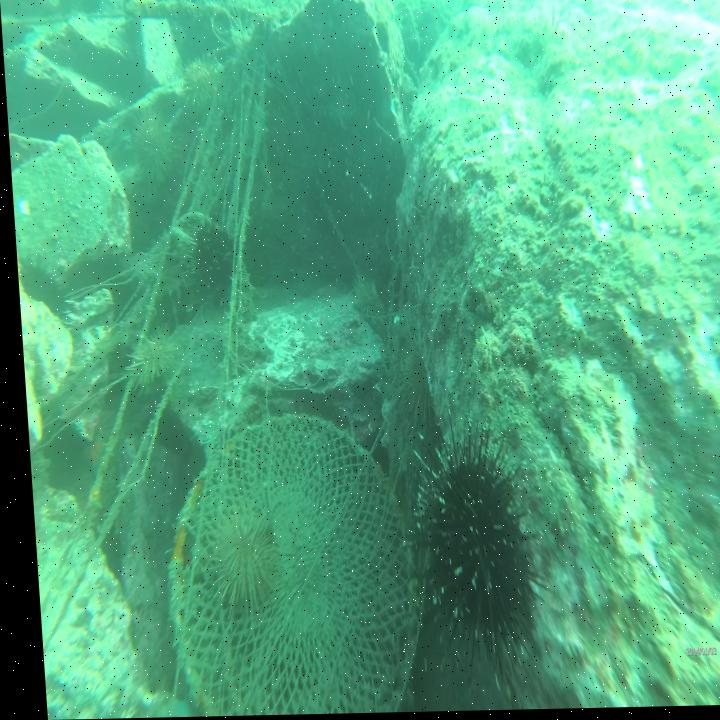echinus: (407, 436, 537, 669), (208, 512, 271, 608), (127, 107, 176, 188), (185, 221, 235, 297), (122, 329, 179, 392), (179, 54, 220, 112)
starfish: (72, 426, 105, 483)
